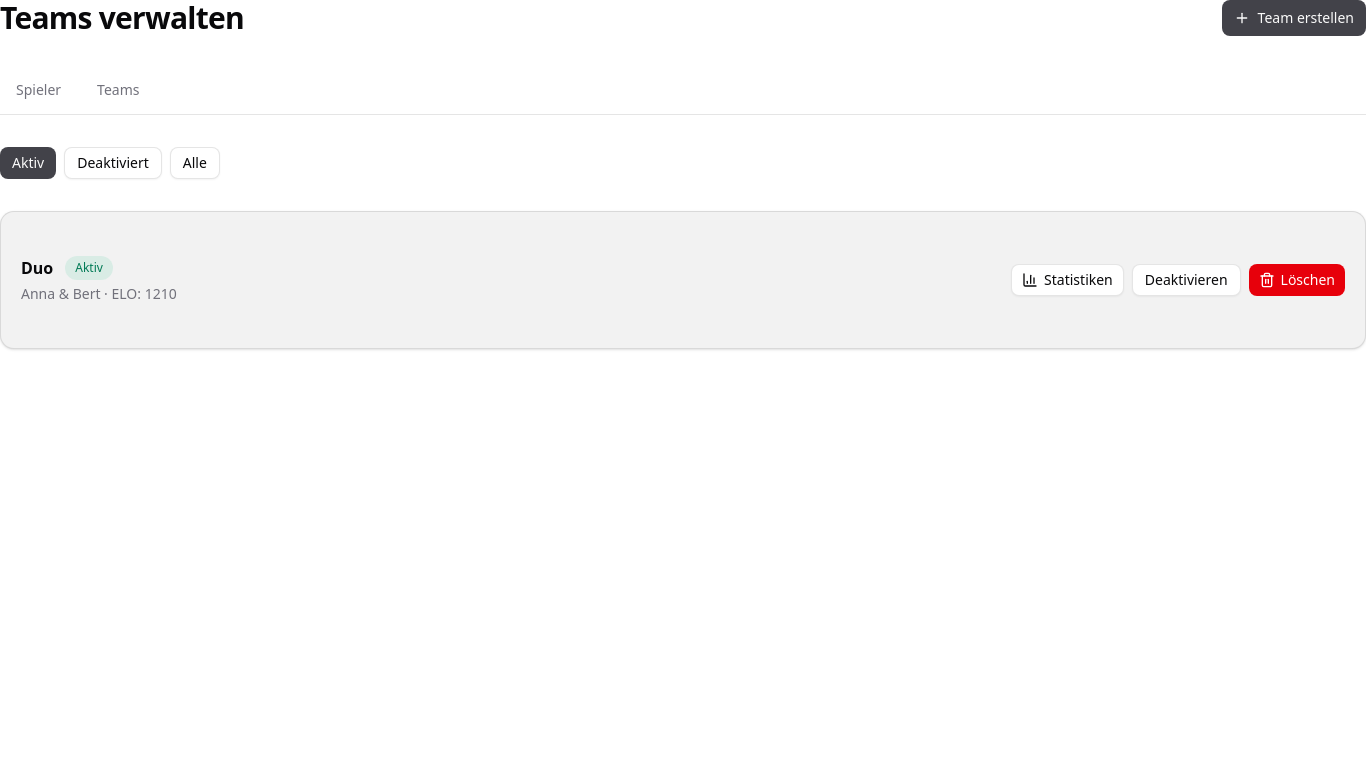
Test case: TeamsPage › keeps team delete failures in the confirmation dialog
The width and height of the screenshot is (1366, 768).
Expected: the heading "Duo" is shown, 21,256 -> 53,280
Click the button "Löschen". click: (1297, 280)
box: 1249,264 -> 1345,296
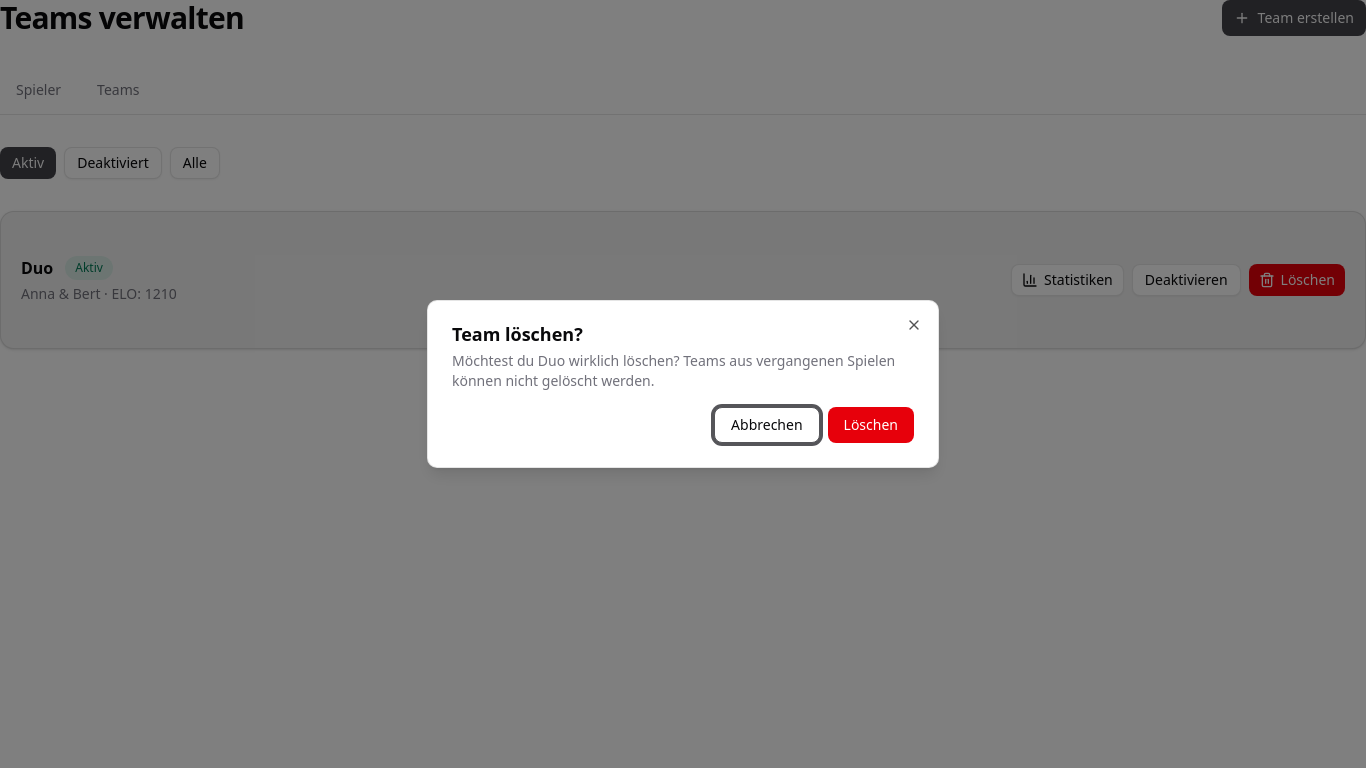
Click the button "Löschen". click: (871, 425)
box: 828,407 -> 914,443
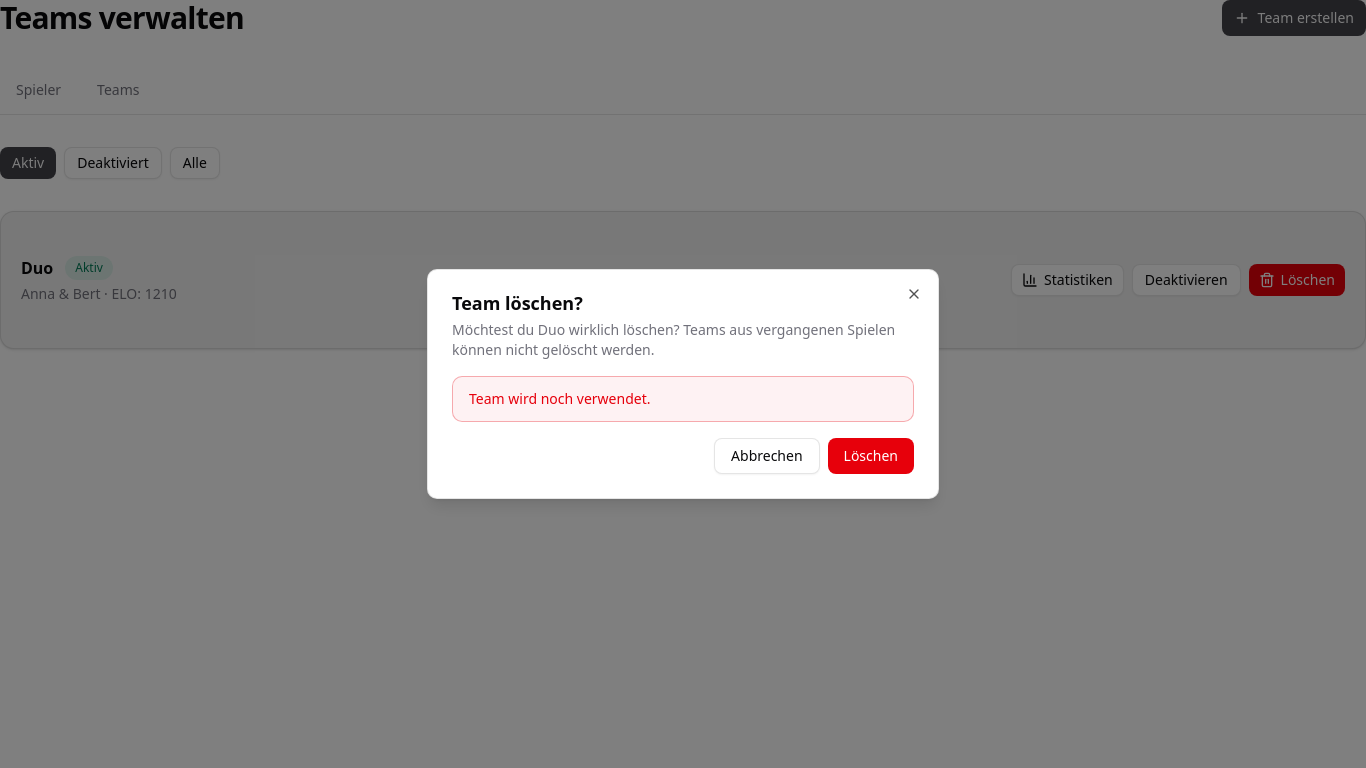
Now the message reads "Team wird noch verwendet.", box 469,389 -> 650,408
